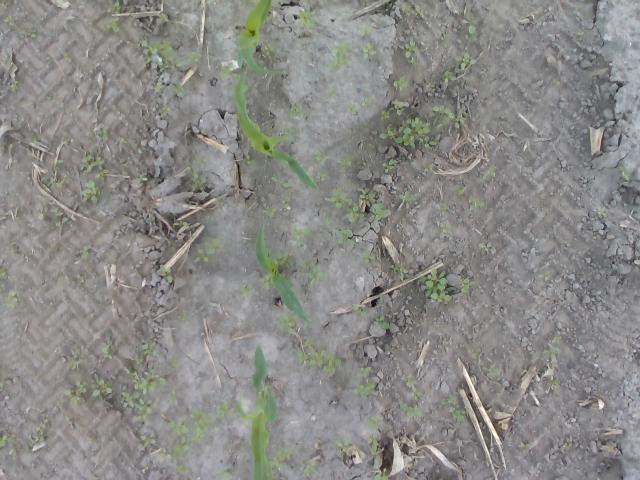Maize: (234, 68, 319, 190), (253, 222, 315, 324), (236, 344, 278, 480), (237, 0, 286, 74)
Weeds: (141, 38, 183, 72), (394, 117, 436, 148), (419, 269, 456, 302), (120, 390, 154, 422), (297, 349, 342, 373), (79, 147, 109, 182), (432, 104, 466, 130), (134, 368, 168, 394), (185, 156, 208, 193), (188, 409, 212, 442), (327, 39, 352, 68), (194, 238, 224, 262), (37, 206, 68, 228), (441, 396, 466, 423), (131, 342, 158, 365), (302, 260, 326, 285), (64, 381, 87, 405), (90, 374, 114, 397), (80, 180, 102, 205), (327, 188, 352, 209), (28, 419, 48, 445), (462, 12, 479, 42), (399, 40, 420, 64), (168, 413, 188, 437), (173, 437, 190, 464), (367, 434, 383, 462), (277, 313, 299, 333), (270, 252, 294, 269), (216, 399, 235, 420), (334, 228, 356, 246), (268, 456, 284, 480), (228, 76, 248, 95), (354, 380, 376, 397), (346, 202, 364, 222), (455, 53, 476, 70), (67, 349, 85, 368), (280, 180, 292, 208), (401, 402, 422, 418), (42, 177, 72, 188), (336, 154, 354, 172), (371, 202, 388, 220), (400, 191, 418, 208), (220, 62, 238, 79), (297, 11, 315, 28), (276, 444, 294, 461), (364, 416, 385, 430), (391, 264, 408, 281), (140, 432, 156, 450), (618, 165, 635, 181), (335, 440, 352, 456), (102, 17, 120, 32), (359, 190, 375, 206), (289, 102, 305, 118), (362, 42, 377, 59), (292, 228, 310, 242), (358, 252, 379, 264), (374, 316, 392, 330), (5, 290, 18, 309), (160, 264, 173, 283), (392, 77, 410, 90), (389, 99, 403, 115), (379, 125, 395, 139), (158, 447, 172, 463), (216, 466, 232, 480), (96, 126, 110, 141), (259, 274, 272, 290), (0, 434, 17, 446), (401, 374, 418, 386), (304, 460, 318, 474), (482, 166, 497, 179), (127, 365, 140, 380), (542, 346, 558, 358), (383, 158, 395, 174), (468, 198, 484, 210), (461, 278, 473, 294), (107, 1, 121, 14), (240, 284, 253, 298), (134, 172, 149, 184), (359, 24, 374, 36), (374, 468, 389, 480), (278, 124, 294, 135), (102, 344, 114, 358), (443, 70, 457, 82), (357, 366, 371, 378), (187, 52, 200, 64), (312, 149, 324, 162), (488, 364, 501, 376), (468, 348, 482, 359), (173, 85, 185, 97), (440, 222, 452, 234), (264, 44, 276, 56), (177, 462, 189, 474), (409, 390, 422, 401), (353, 306, 367, 316), (478, 242, 492, 252), (453, 184, 467, 194), (20, 30, 37, 38), (262, 207, 277, 216), (242, 155, 255, 165), (80, 246, 90, 258), (10, 80, 20, 92), (66, 416, 74, 430), (62, 52, 73, 62), (316, 171, 327, 181), (597, 206, 607, 217), (326, 87, 336, 98), (347, 104, 358, 114), (379, 110, 390, 120), (322, 212, 331, 224), (158, 12, 168, 22), (538, 271, 548, 281), (95, 290, 105, 300), (550, 379, 559, 390), (0, 267, 7, 281), (168, 390, 175, 404), (172, 220, 188, 226), (155, 82, 164, 92), (270, 174, 279, 183), (440, 203, 450, 211), (402, 4, 412, 12), (362, 98, 372, 106), (424, 165, 434, 173), (304, 338, 314, 346), (3, 16, 12, 24), (416, 6, 424, 15), (161, 104, 170, 111), (552, 336, 561, 343), (170, 358, 178, 365), (118, 136, 126, 143), (178, 314, 186, 320), (92, 475, 100, 480), (0, 0, 8, 4)
